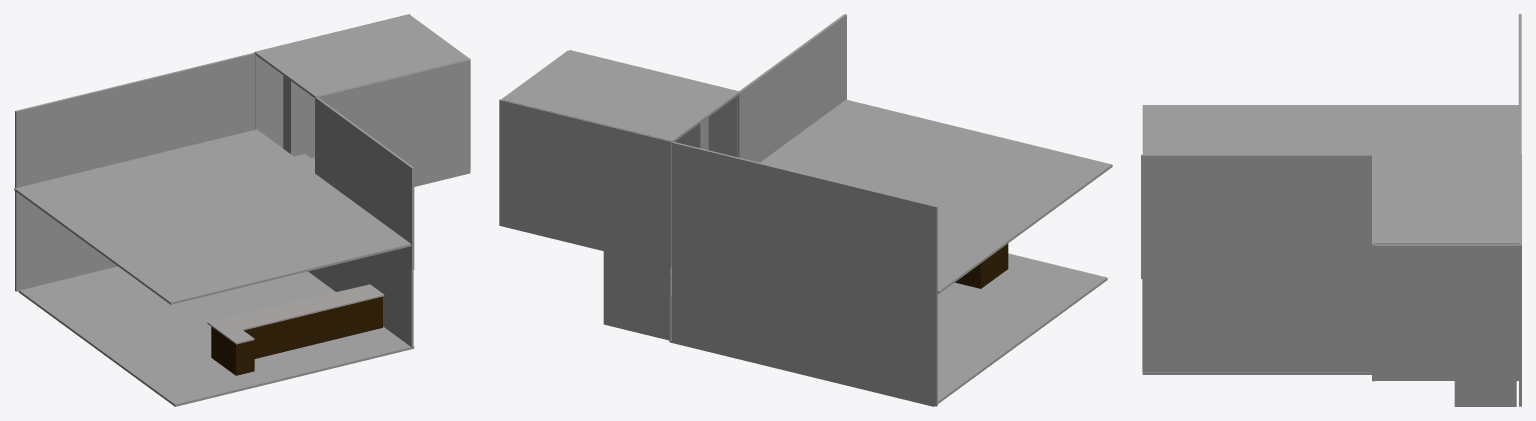
File: TavernBaseFBX.fbx
3 views of the same model, side by side, from view 1: azimuth 30°, elevation 25°; view 2: azimuth 150°, elevation 25°; view 3: azimuth 270°, elevation 25° (orthographic). The views are drawn at different scales.
Visible parts, largest first — view 1: pCube23, pCube1, pCube40, pCube36, pCube43, pCube9, pCube39, pCube2, pCube8, pCube38, pCube37, pCube42; view 2: pCube40, pCube2, pCube23, pCube37, pCube1, pCube43, pCube39, pCube42, pCube36, pCube9, pCube38; view 3: pCube39, pCube8, pCube41, pCube23, pCube43, pCube29, pCube1, pCube36, pCube37, pCube40.
Boxes of the visible parts, left/top/right/bottom form: pCube23: left=14, top=129, right=411, bottom=304; pCube1: left=18, top=266, right=414, bottom=406; pCube40: left=15, top=52, right=255, bottom=213; pCube36: left=317, top=59, right=470, bottom=186; pCube43: left=254, top=15, right=467, bottom=97; pCube9: left=207, top=284, right=384, bottom=375; pCube39: left=315, top=97, right=414, bottom=270; pCube2: left=15, top=191, right=117, bottom=291; pCube8: left=308, top=246, right=413, bottom=347; pCube38: left=283, top=75, right=314, bottom=158; pCube37: left=254, top=14, right=410, bottom=147; pCube42: left=256, top=112, right=283, bottom=147; pCube40: left=672, top=141, right=937, bottom=319; pCube2: left=672, top=229, right=937, bottom=406; pCube23: left=760, top=99, right=1112, bottom=293; pCube37: left=499, top=99, right=671, bottom=267; pCube1: left=669, top=253, right=1107, bottom=406; pCube43: left=503, top=50, right=739, bottom=142; pCube39: left=737, top=14, right=846, bottom=162; pCube42: left=603, top=199, right=671, bottom=340; pCube36: left=568, top=50, right=738, bottom=157; pCube9: left=955, top=243, right=1008, bottom=288; pCube38: left=675, top=117, right=708, bottom=150; pCube39: left=1141, top=154, right=1371, bottom=278; pCube8: left=1142, top=249, right=1371, bottom=372; pCube41: left=1374, top=244, right=1518, bottom=380; pCube23: left=1142, top=105, right=1518, bottom=154; pCube43: left=1374, top=153, right=1520, bottom=244; pCube29: left=1454, top=381, right=1516, bottom=406; pCube1: left=1142, top=372, right=1371, bottom=374; pCube36: left=1372, top=154, right=1374, bottom=381; pCube37: left=1519, top=154, right=1521, bottom=381; pCube40: left=1518, top=14, right=1521, bottom=153.
Size of the model in its own units: 92.29 by 40.66 by 63.8.
